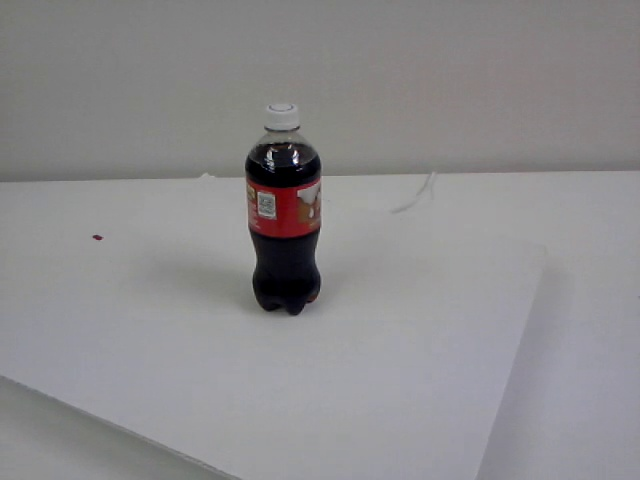botolplastik: (245, 104, 327, 314)
